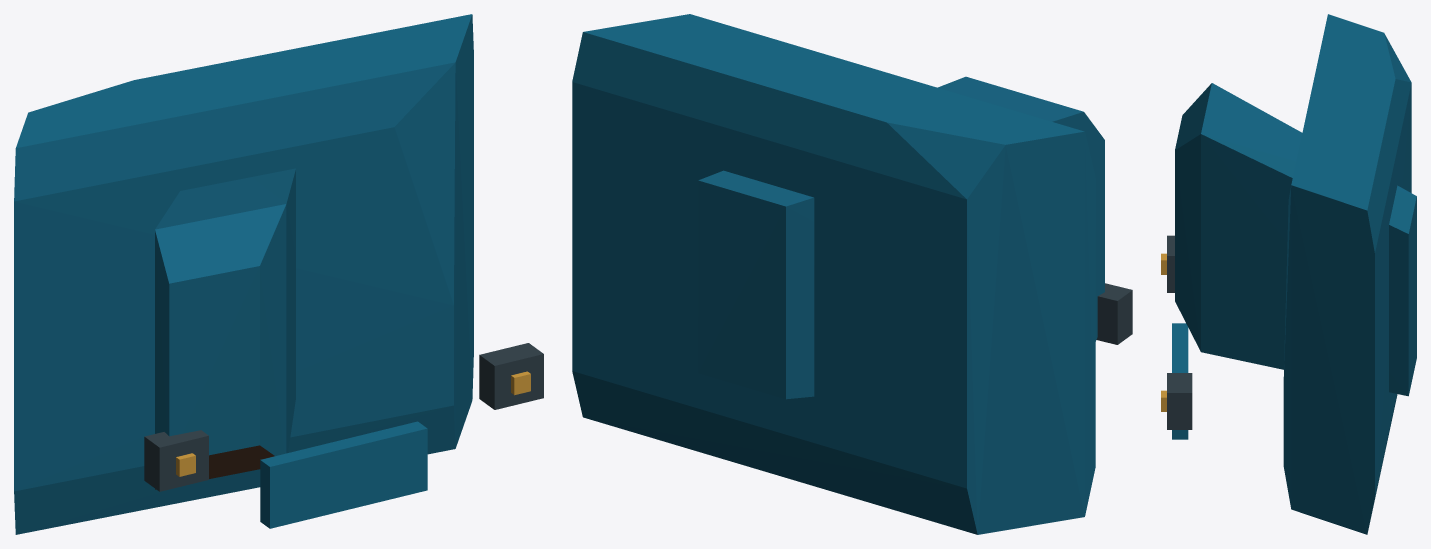
File: tool-bench-sky.glb
The picture shows the model from 3 angles, left to right: view 1: azimuth 30°, elevation 25°; view 2: azimuth 150°, elevation 25°; view 3: azimuth 270°, elevation 25°; orthographic projection. The views are drawn at different scales.
Visible parts, largest first — view 1: tool-bench-sky; view 2: tool-bench-sky; view 3: tool-bench-sky.
Boxes of the visible parts, x1,y1,x2,y2 form: tool-bench-sky: (14, 14, 543, 534); tool-bench-sky: (572, 14, 1132, 534); tool-bench-sky: (1161, 14, 1416, 534).
Bounding box in the file's own units: 1.4 × 1.05 × 0.7503.
